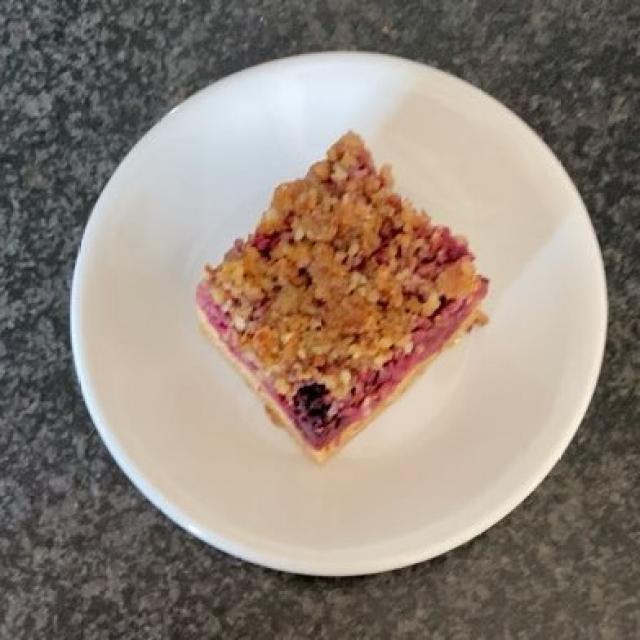fruit-tart: (208, 142, 482, 454)
